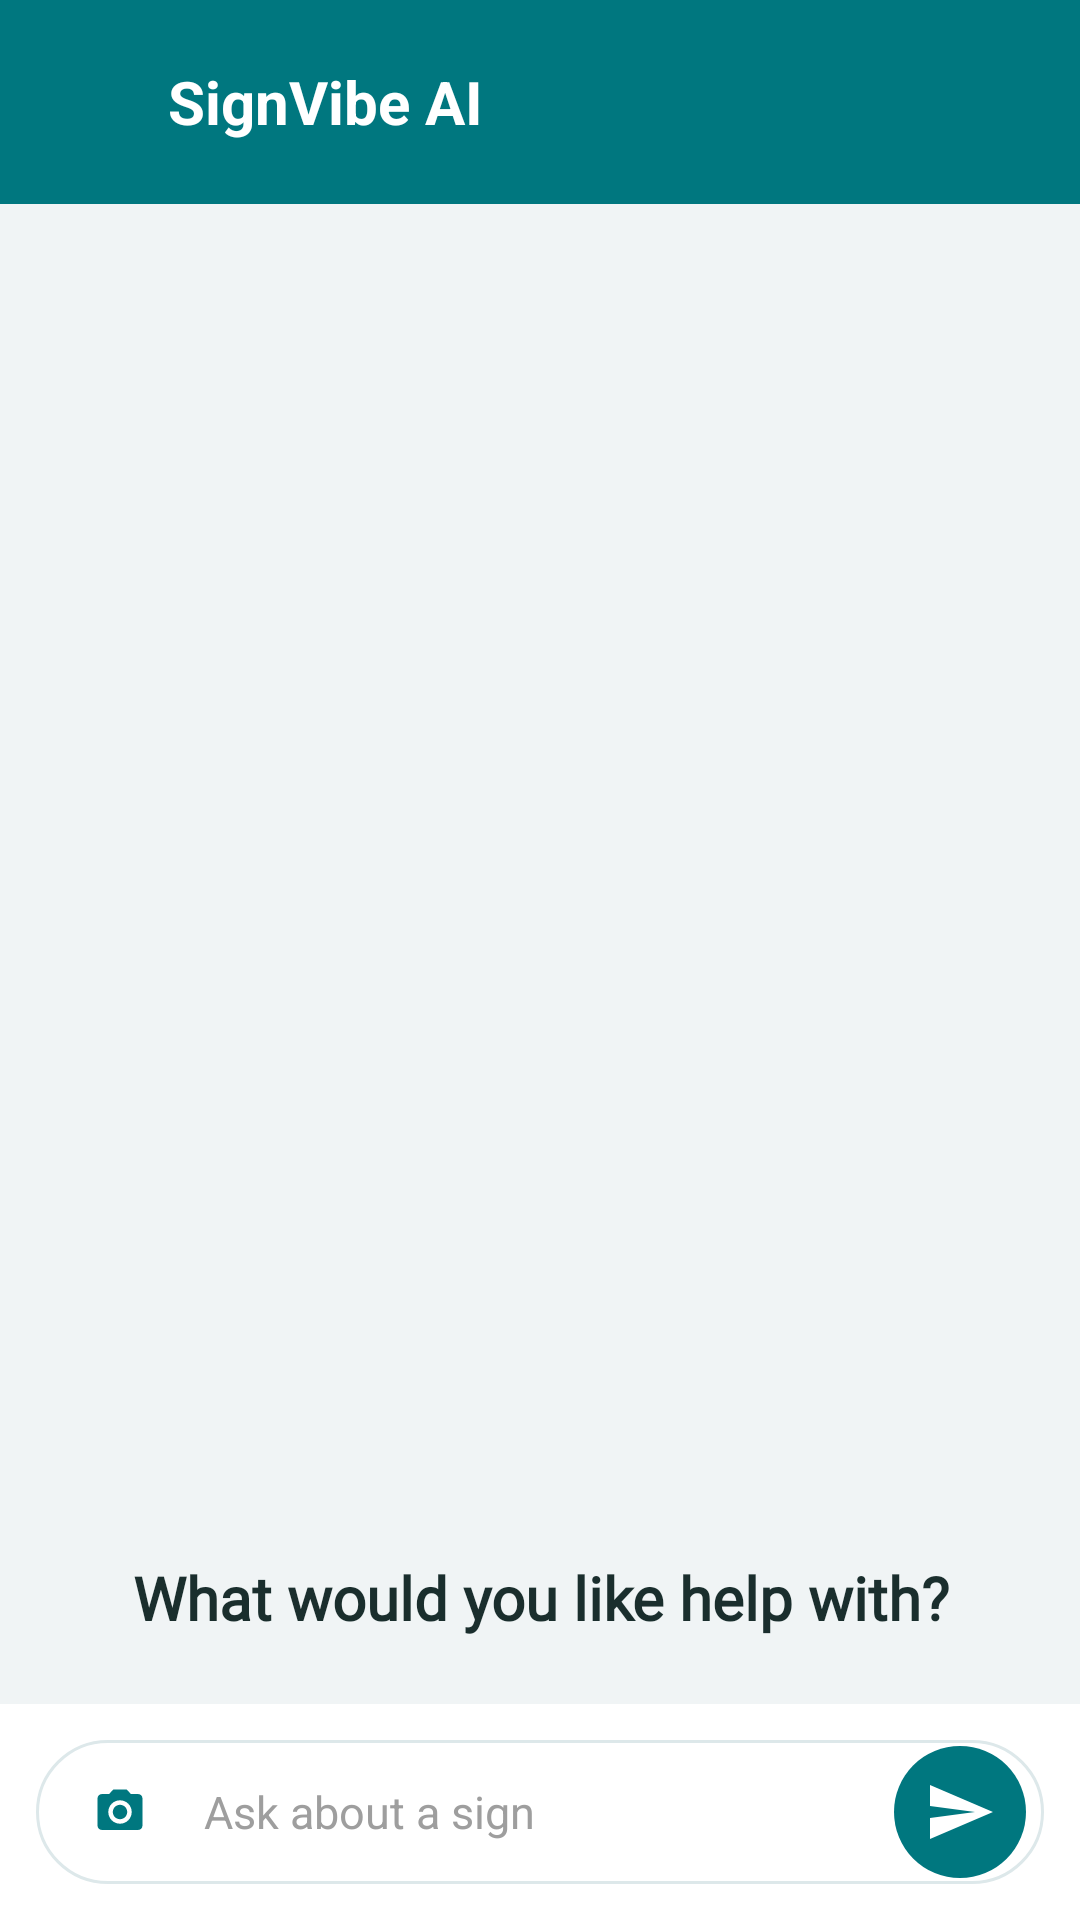

Icon bounding boxes for this 1080px x 1920px phone screenshot, format (x1, y1, x2, y2):
camera: (97, 1789, 143, 1830)
Send: (894, 1746, 1026, 1878)
